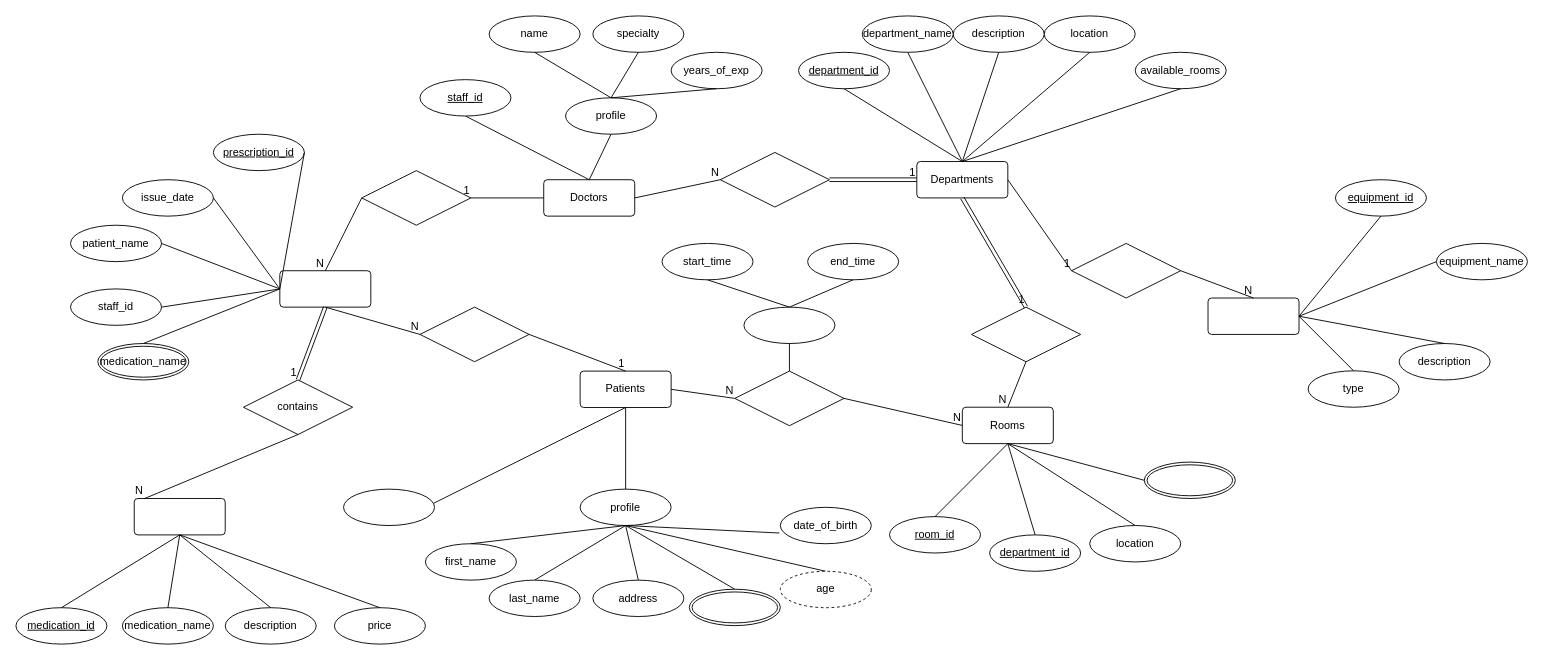
This 1543x661 diagram has some shape labels left out. The centre of each missing label's shape, as x and y in pixels:
"assigned" goes at point (789, 398).
"belongs" goes at point (1126, 270).
"belongs_to" goes at point (1026, 334).
"Equipment" goes at point (1253, 315).
"Medications" goes at point (179, 516).
"phone_num" goes at point (734, 607).
"prescribes" goes at point (416, 197).
"Prescriptions" goes at point (325, 288).
"receives" goes at point (474, 334).
"room_type" goes at point (1189, 479).
"SSN" goes at point (389, 507).
"time_period" goes at point (789, 325).
"works_in" goes at point (774, 179).
